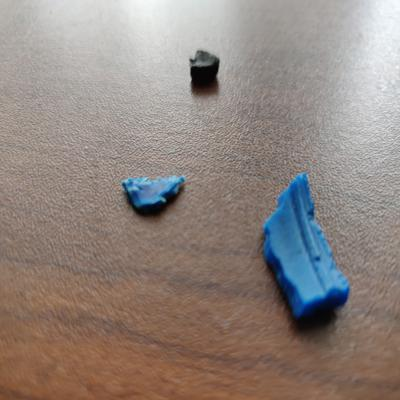plastic: (260, 166, 354, 329), (115, 171, 195, 223), (178, 44, 228, 88)
